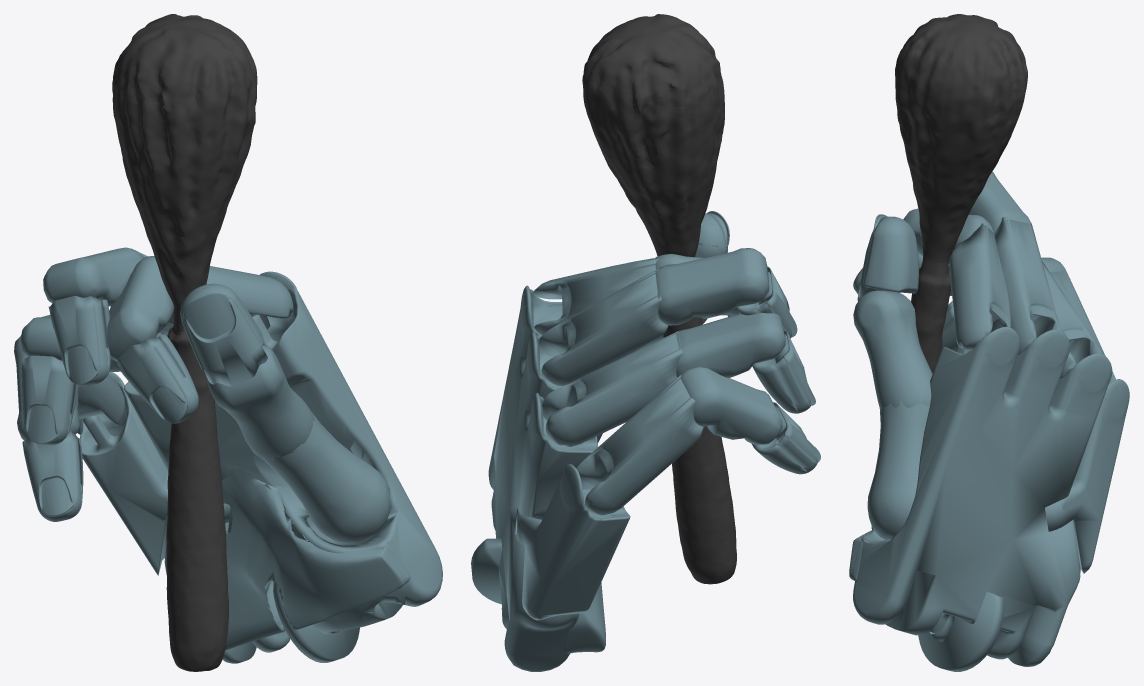
3 renders of one model, left to right at view 1: azimuth 30°, elevation 25°; view 2: azimuth 150°, elevation 25°; view 3: azimuth 270°, elevation 25°, orthographic. The views are drawn at different scales.
Visible parts, largest first — view 1: world; view 2: world; view 3: world.
Part boxes in pixels (x1=…): world: x1=14, y1=14, x2=442, y2=671; world: x1=471, y1=14, x2=820, y2=671; world: x1=849, y1=14, x2=1129, y2=671.
Bounding box in the file's own units: 0.1338 × 0.2317 × 0.0974.
1 material, 1 textured.
